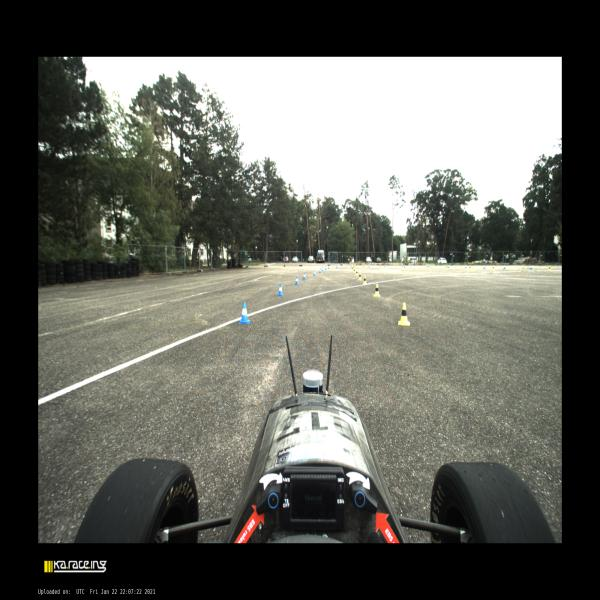blue_cone: (240, 302, 250, 324), (278, 284, 284, 296), (294, 276, 300, 285), (303, 272, 306, 280), (313, 270, 316, 276), (319, 268, 322, 274), (483, 265, 486, 269), (530, 265, 532, 270), (335, 265, 338, 268), (325, 266, 327, 270), (428, 264, 430, 268), (504, 265, 506, 269), (384, 264, 386, 267), (448, 265, 450, 268), (465, 265, 467, 268), (322, 267, 323, 271), (328, 265, 329, 269), (351, 264, 352, 268), (369, 264, 370, 267), (404, 264, 405, 267)
yellow_cone: (398, 303, 410, 325), (374, 284, 380, 297), (363, 276, 367, 284), (359, 273, 362, 280), (548, 266, 552, 271), (353, 268, 356, 273), (356, 270, 358, 276), (492, 266, 495, 270), (469, 265, 471, 270), (379, 264, 381, 268), (363, 265, 365, 268), (402, 264, 403, 268), (353, 266, 354, 269), (352, 268, 353, 270), (446, 266, 447, 268), (427, 266, 428, 268)
